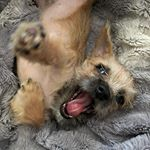puppy: (7, 1, 137, 132)
